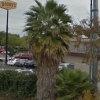Palm tree: (20, 6, 81, 92)
